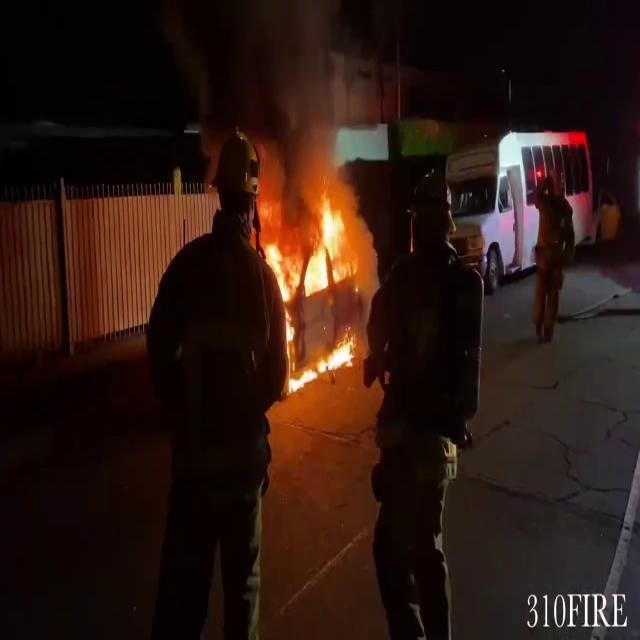Fire: (268, 190, 358, 397)
Smoke: (197, 0, 345, 202)
